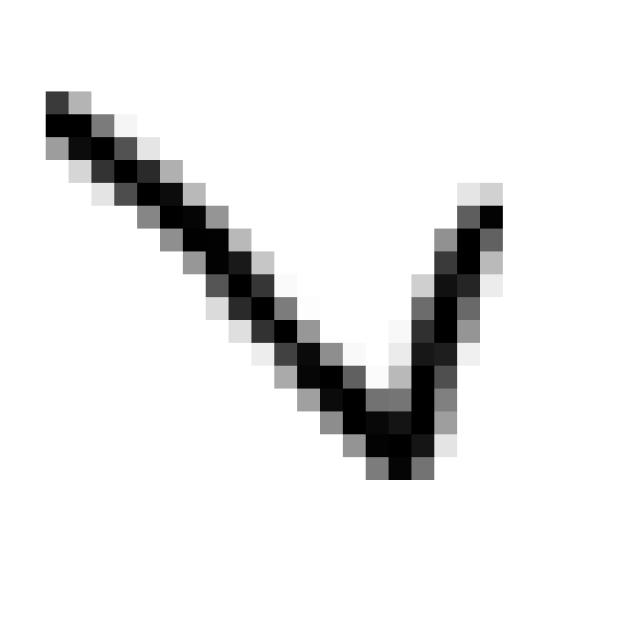7 -seven-: (23, 69, 521, 502)
